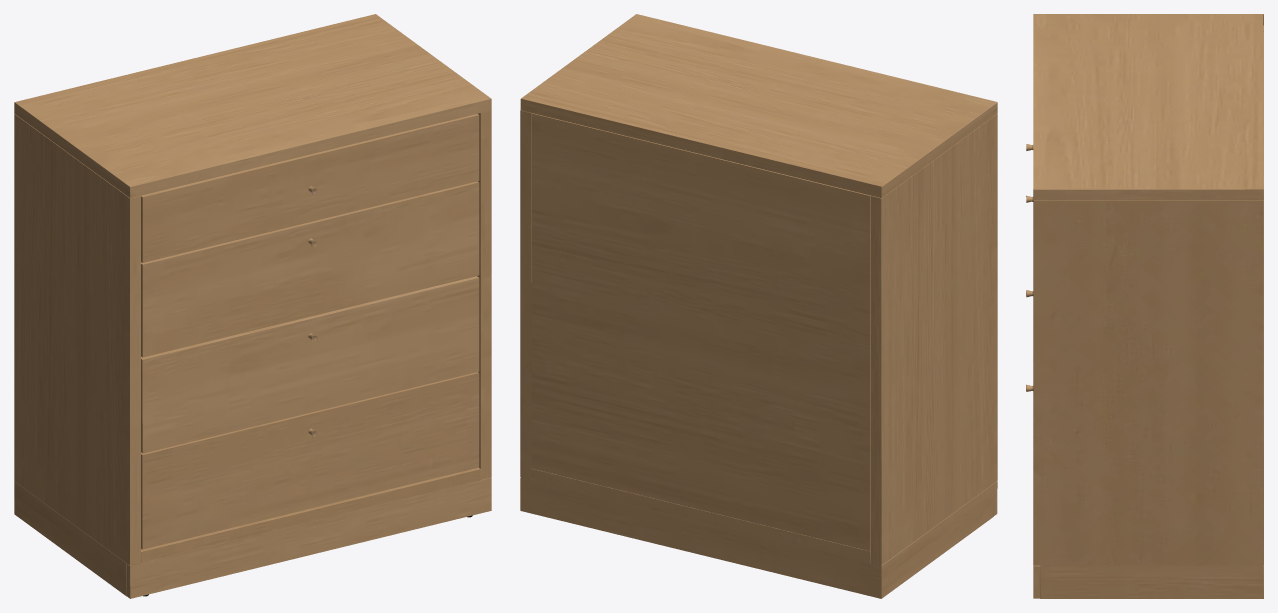
3 renders of one model, left to right at view 1: azimuth 30°, elevation 25°; view 2: azimuth 150°, elevation 25°; view 3: azimuth 270°, elevation 25°, orthographic.
Parts seen in each view (by area): view 1: 10614616_chest_of_4_drawers.001; view 2: 10614616_chest_of_4_drawers.001; view 3: 10614616_chest_of_4_drawers.001.
Part boxes in pixels (x1,y1,x2,y2): 10614616_chest_of_4_drawers.001: (14,14,491,598); 10614616_chest_of_4_drawers.001: (520,14,997,598); 10614616_chest_of_4_drawers.001: (1026,14,1263,598).
Bounding box in the file's own units: 0.82 × 0.9 × 0.4701.
Materials: 1 (1 with a texture image).
